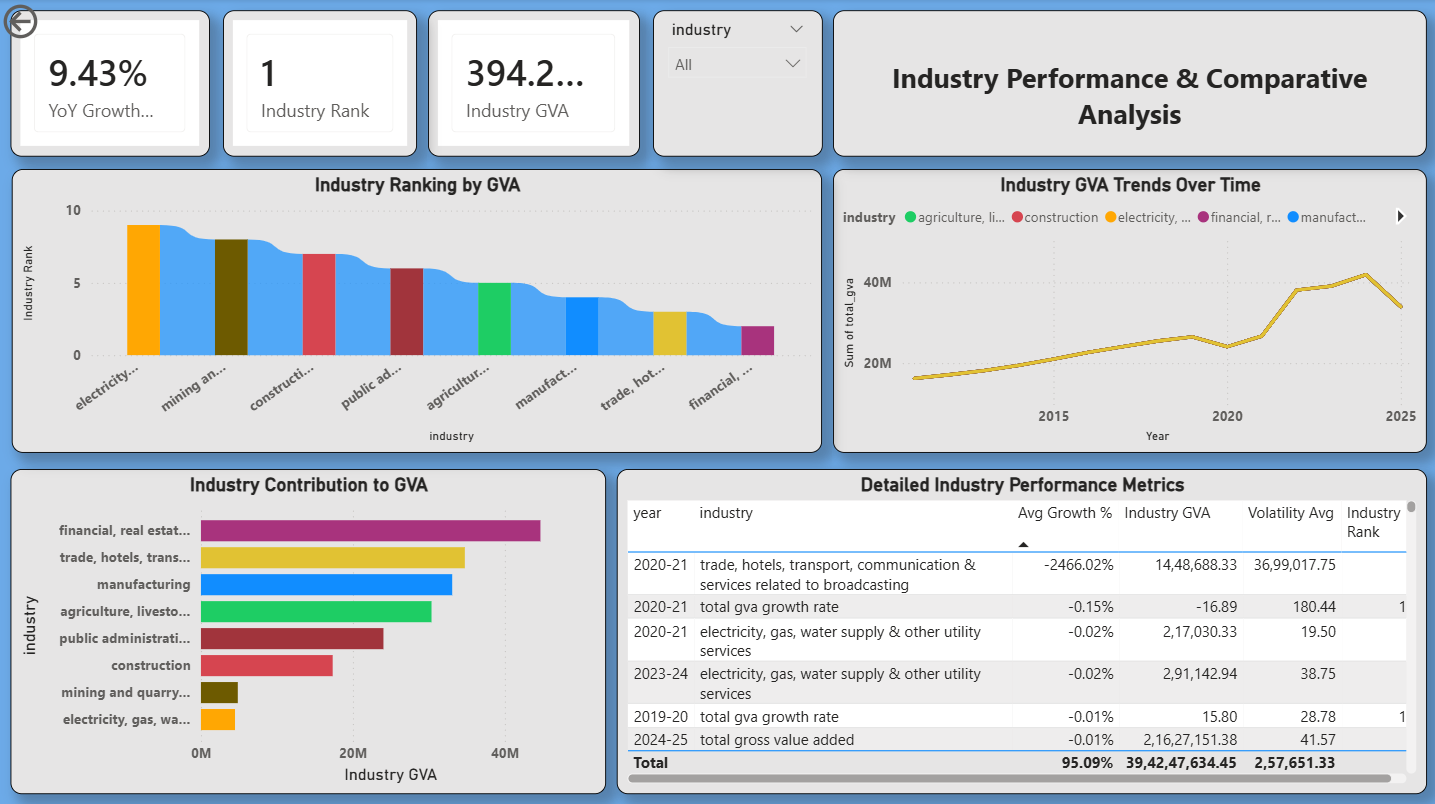

What the dashboard file says about the page in this screenshot:
{"tool":"powerbi","page":{"name":"Performance","canvas":[1280,720],"ordinal":1},"visuals":[{"type":"cardVisual","fields":{"Data":["gva_feature_engineered.YoY Growth (True)"]},"box":[11,9.8,177.9,130.1],"z":0},{"type":"cardVisual","fields":{"Data":["gva_feature_engineered.Industry GVA"]},"box":[382.8,9.8,189,130.1],"z":1000},{"type":"cardVisual","fields":{"Data":["gva_feature_engineered.Industry Rank"]},"box":[200,9.8,173,130.1],"z":2000},{"type":"lineChart","title":"Industry GVA Trends Over Time","fields":{"Category":["gva_feature_engineered.date.Variation.Date Hierarchy.Year","gva_feature_engineered.date.Variation.Date Hierarchy.Quarter","gva_feature_engineered.date.Variation.Date Hierarchy.Month","gva_feature_engineered.date.Variation.Date Hierarchy.Day"],"Y":["Sum(gva_feature_engineered.total_gva)"],"Series":["gva_feature_engineered.industry"]},"box":[743.6,150.9,528.8,252.8],"z":3000},{"type":"clusteredBarChart","title":"Industry Contribution to GVA","fields":{"Category":["gva_feature_engineered.industry"],"Y":["gva_feature_engineered.Industry GVA"]},"box":[11,418.4,530.1,289.6],"z":4000},{"type":"ribbonChart","title":"Industry Ranking by GVA","fields":{"Y":["gva_feature_engineered.Industry Rank"],"Category":["gva_feature_engineered.industry"]},"box":[12.3,150.9,721.5,252.8],"z":5000},{"type":"tableEx","title":"Detailed Industry Performance Metrics","fields":{"Values":["gva_feature_engineered.year","gva_feature_engineered.industry","gva_feature_engineered.Avg Growth %","gva_feature_engineered.Industry GVA","gva_feature_engineered.Volatility Avg","gva_feature_engineered.Industry Rank"]},"box":[550.9,418.4,721.5,289.6],"z":6000},{"type":"actionButton","box":[0,0,100,40],"z":7000},{"type":"slicer","fields":{"Values":["gva_feature_engineered.industry"]},"box":[582.8,9.8,150.9,130.1],"z":8000},{"type":"textbox","box":[743.6,9.8,528.8,130.1],"z":9000}]}

Visuals, with their boxes in screenshot pixels (x1, y1, x2, y2), scaled from the page's 1280x720 canvas onto the 1435x804 screenshot:
cardVisual - gva_feature_engineered.YoY Growth (True): 12,11,212,156
cardVisual - gva_feature_engineered.Industry GVA: 429,11,641,156
cardVisual - gva_feature_engineered.Industry Rank: 224,11,418,156
"Industry GVA Trends Over Time" lineChart: 834,169,1426,451
"Industry Contribution to GVA" clusteredBarChart: 12,467,607,791
"Industry Ranking by GVA" ribbonChart: 14,169,823,451
"Detailed Industry Performance Metrics" tableEx: 618,467,1426,791
actionButton: 0,0,112,45
slicer - gva_feature_engineered.industry: 653,11,823,156
textbox: 834,11,1426,156
